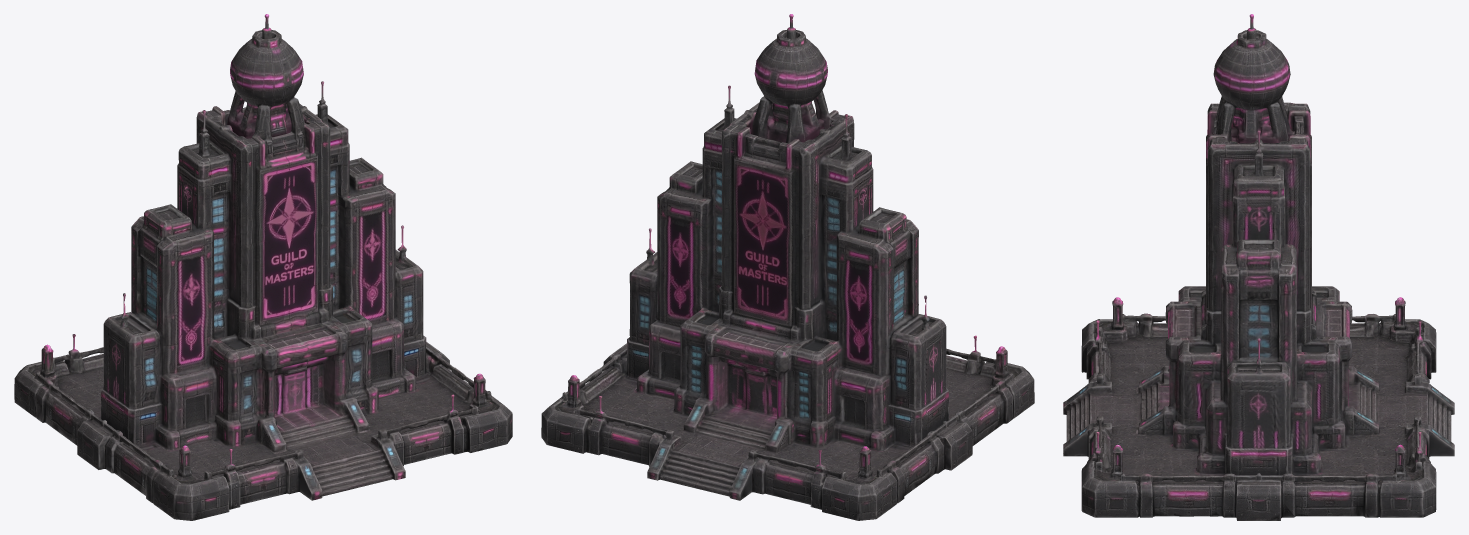
File: s12GuildOfMasters_LOD1.glb
3 renders of one model, left to right at view 1: azimuth 30°, elevation 25°; view 2: azimuth 150°, elevation 25°; view 3: azimuth 270°, elevation 25°, orthographic. The views are drawn at different scales.
Parts seen in each view (by area): view 1: Mesh_0.009; view 2: Mesh_0.009; view 3: Mesh_0.009.
Boxes of the visible parts, left/top/right/bottom form: Mesh_0.009: left=14, top=14, right=512, bottom=520; Mesh_0.009: left=541, top=14, right=1034, bottom=520; Mesh_0.009: left=1063, top=14, right=1454, bottom=520.
Bounding box in the file's own units: 1.71 × 1.9 × 1.61.
Materials: 1 (1 with a texture image).
